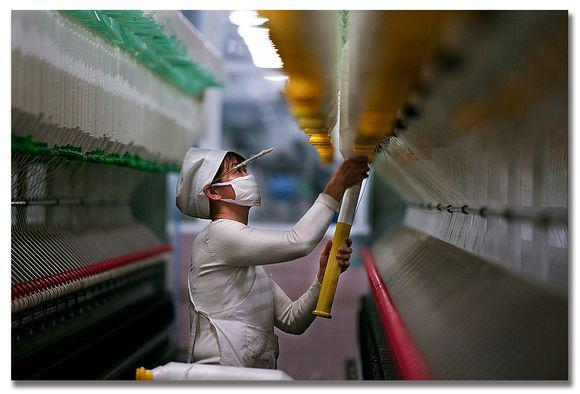OK: (221, 163, 264, 208)
